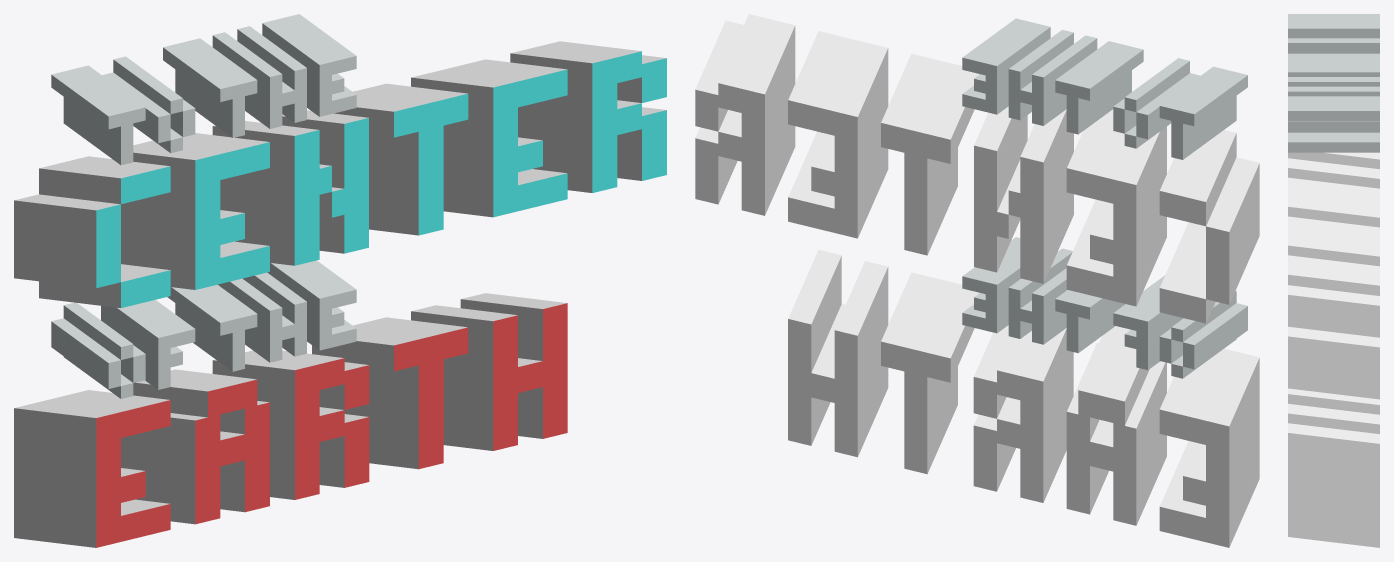
Rendered from TTCOTE_Title.fbx.
The picture shows the model from 3 angles, left to right: view 1: azimuth 30°, elevation 25°; view 2: azimuth 150°, elevation 25°; view 3: azimuth 270°, elevation 25°; orthographic projection. The views are drawn at different scales.
Parts seen in each view (by area): view 1: E.001, H, C, N, R, A, E, E.002, R.001, T.001, T, t (+9 smaller); view 2: E.002, R, H, E.001, A, E, C, N, R.001, T, T.001, t (+9 smaller); view 3: R, H, e, T, E.002, N, t, h, o, t.001, T.001.
Part boxes in pixels (left/top/right/bottom): E.001: left=14, top=390, right=170, bottom=547; H: left=411, top=293, right=567, bottom=450; C: left=14, top=156, right=170, bottom=307; N: left=212, top=110, right=368, bottom=265; R: left=510, top=41, right=666, bottom=192; A: left=121, top=369, right=269, bottom=524; E: left=121, top=133, right=269, bottom=289; E.002: left=411, top=59, right=567, bottom=217; R.001: left=212, top=350, right=369, bottom=499; T.001: left=312, top=317, right=468, bottom=469; T: left=334, top=83, right=468, bottom=235; t: left=51, top=65, right=145, bottom=165; E.002: left=788, top=31, right=888, bottom=238; R: left=695, top=14, right=795, bottom=215; H: left=788, top=249, right=888, bottom=457; E.001: left=1159, top=348, right=1259, bottom=547; A: left=1066, top=326, right=1166, bottom=525; E: left=1066, top=109, right=1166, bottom=306; C: left=1159, top=130, right=1259, bottom=323; N: left=974, top=106, right=1073, bottom=283; R.001: left=973, top=325, right=1073, bottom=502; T: left=881, top=53, right=979, bottom=255; T.001: left=881, top=272, right=979, bottom=474; t: left=1159, top=66, right=1247, bottom=159; R: left=1288, top=255, right=1379, bottom=399; H: left=1288, top=403, right=1379, bottom=547; e: left=1288, top=96, right=1379, bottom=152; T: left=1288, top=177, right=1379, bottom=227; E.002: left=1288, top=216, right=1379, bottom=266; N: left=1288, top=152, right=1379, bottom=188; t: left=1288, top=14, right=1379, bottom=38; h: left=1288, top=77, right=1379, bottom=96; o: left=1288, top=38, right=1379, bottom=57; t.001: left=1288, top=57, right=1379, bottom=76; T.001: left=1288, top=388, right=1379, bottom=414.
Size of the model in its own units: 480 by 350 by 80.
